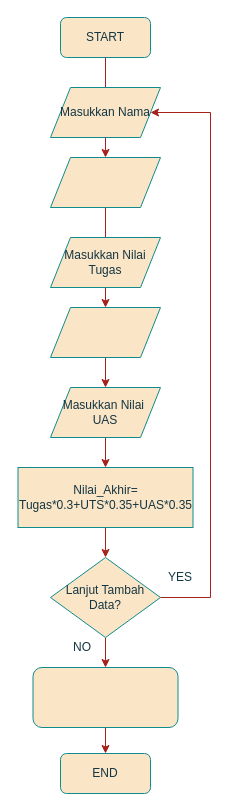
The diagram is 236 pixels wide and 811 high, and some of its shapes have lost their labels. Each missing label, with the centre of its shape:
"Masukkan Nilai UTS" belongs at point (105, 332).
"Masukkan NIM" belongs at point (105, 182).
"PRINT NAMA + NIM + NILAI TUGAS+UTS+UAS" belongs at point (105, 697).
